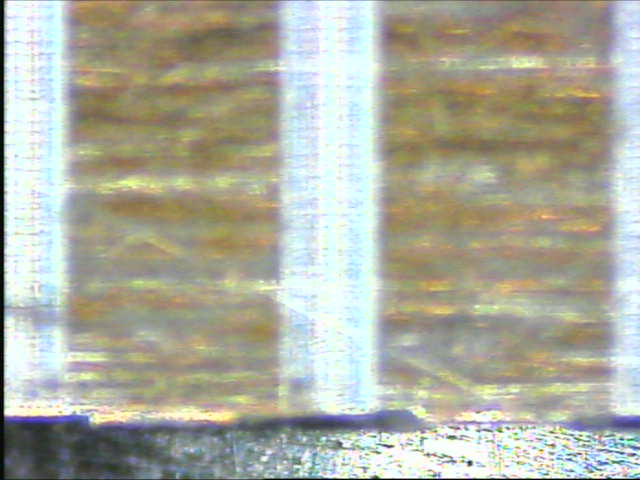line: (276, 1, 381, 414)
